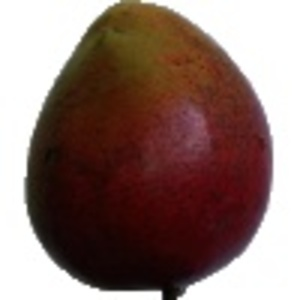manga: (26, 1, 275, 300)
